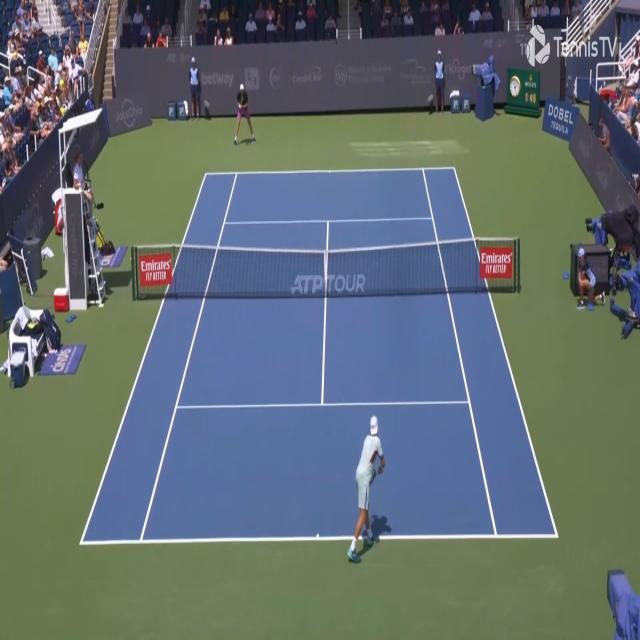tennis-player: (344, 410, 390, 567), (233, 82, 257, 147)
